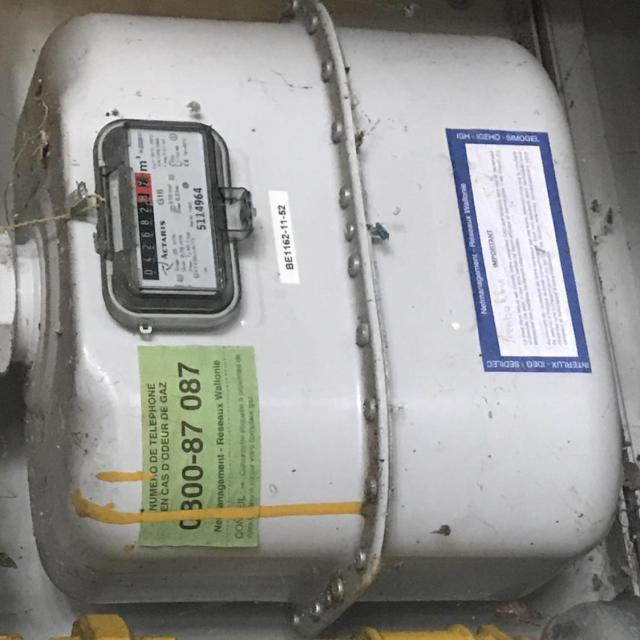gaz_meter: (122, 121, 224, 297)
indication: (133, 173, 160, 281)
